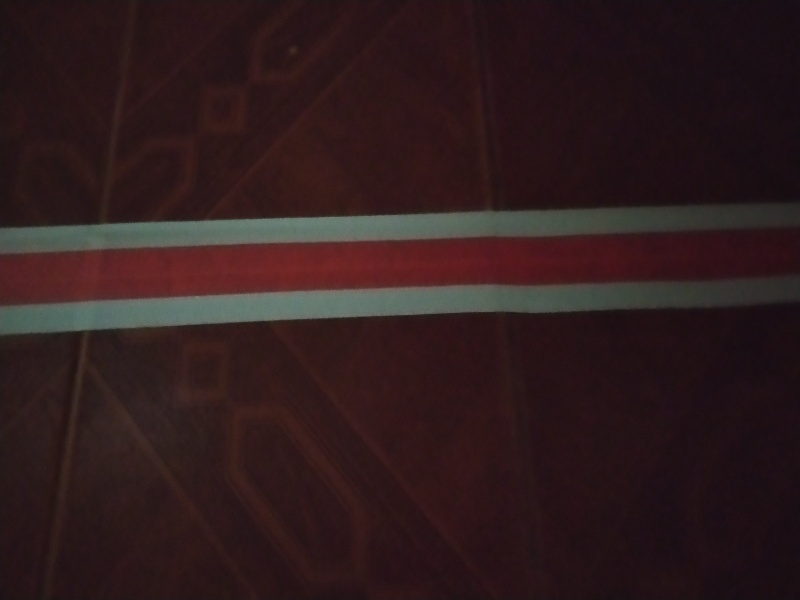faixa: (2, 223, 800, 311)
